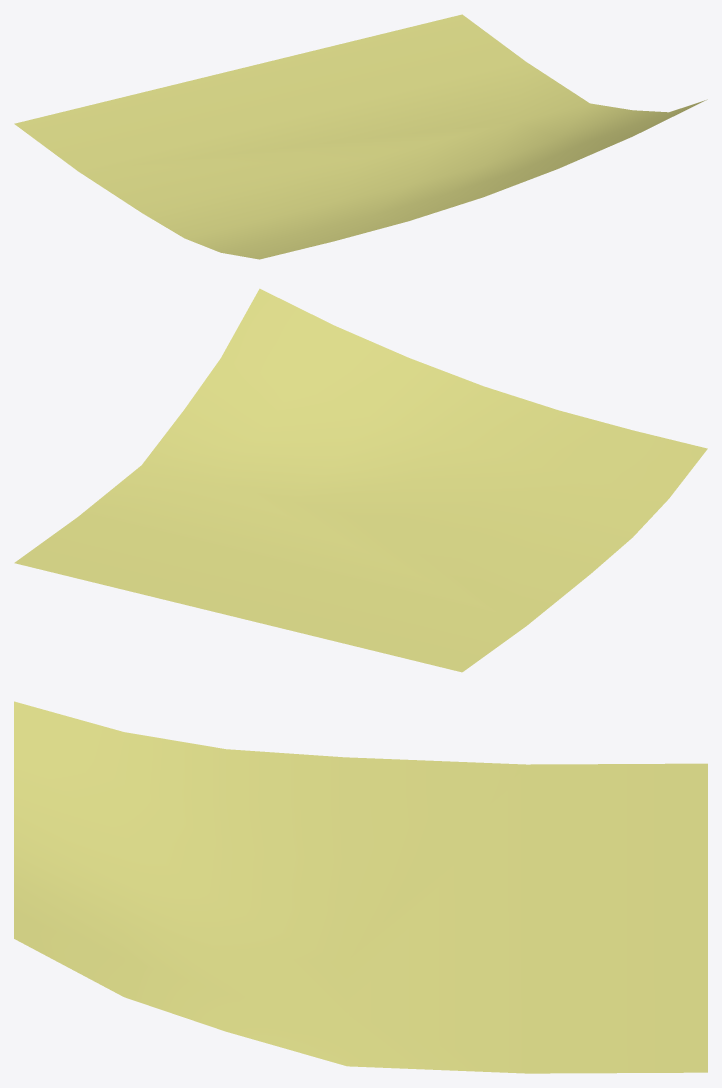
File: PH_PostIt1.fbx
The picture shows the model from 3 angles, top to bottom: view 1: azimuth 30°, elevation 25°; view 2: azimuth 150°, elevation 25°; view 3: azimuth 270°, elevation 25°; orthographic projection. The views are drawn at different scales.
Visible parts, largest first — view 1: PostIt3; view 2: PostIt3; view 3: PostIt3.
Boxes of the visible parts, left/top/right/bottom form: PostIt3: left=14, top=14, right=707, bottom=259; PostIt3: left=14, top=288, right=707, bottom=672; PostIt3: left=14, top=701, right=707, bottom=1073.
Bounding box in the file's own units: 8.21 × 1.67 × 7.8.
